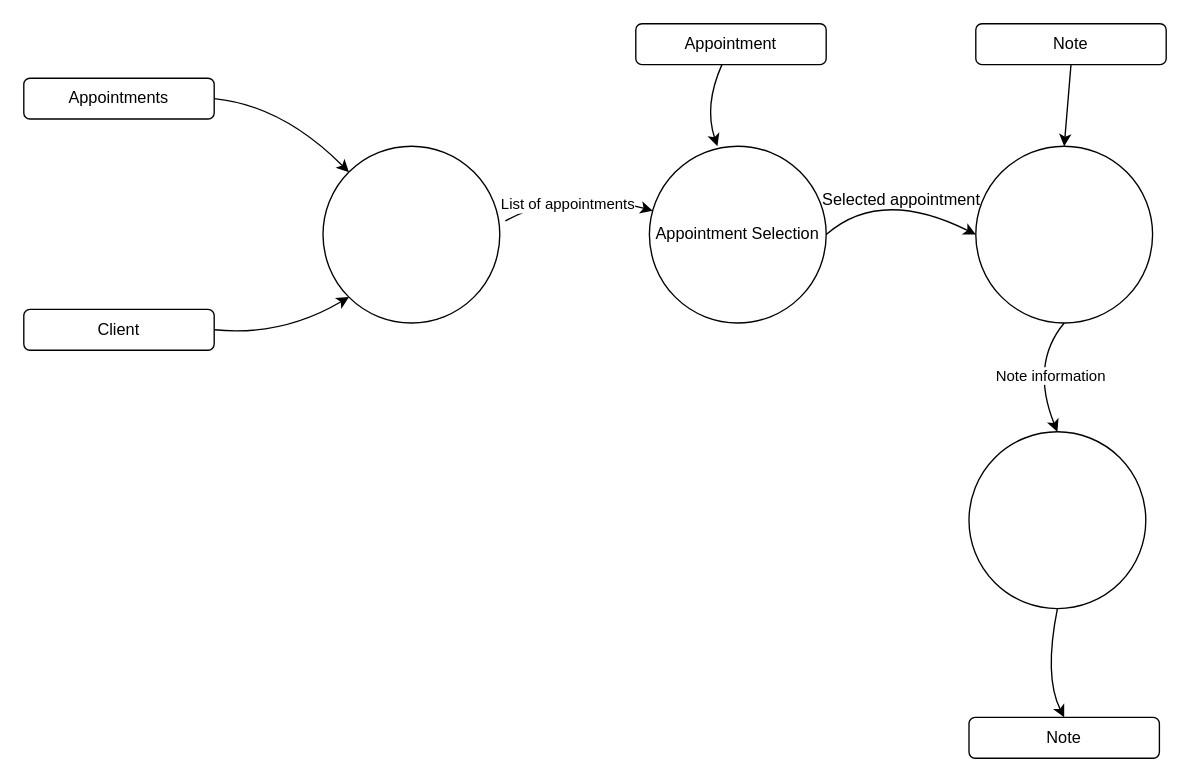
Some shapes in this 1190 by 782 pixel diagram are drawn without their labels. Here are the shapes that lost their labels. From the top down, the centre of each, then its label:
the point at 411,234: Search
the point at 1063,234: Note Creation
the point at 1057,519: Note Confirmation
